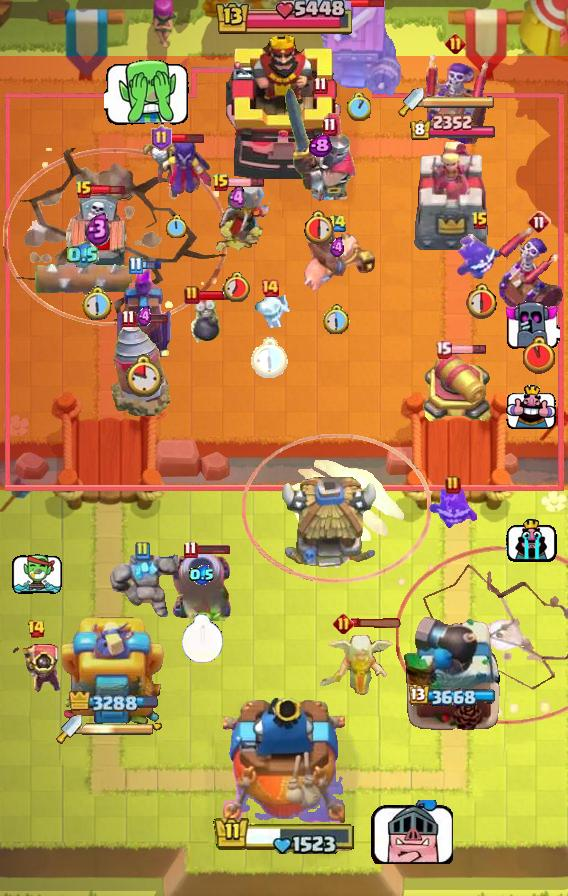axe: (141, 135, 211, 197)
bar: (62, 611, 166, 731), (412, 140, 494, 256)
bat: (247, 286, 293, 330)
bomber-evolution: (8, 639, 64, 695)
clock: (213, 814, 355, 855), (213, 0, 355, 38)
electro-spirit: (67, 241, 99, 269), (85, 212, 111, 246), (308, 134, 332, 158), (189, 565, 215, 585), (228, 184, 246, 211), (330, 238, 345, 259), (137, 306, 151, 327)
elixir: (181, 614, 224, 664), (250, 337, 289, 379), (125, 355, 162, 398), (463, 281, 497, 318), (523, 336, 555, 374), (303, 209, 336, 245), (82, 287, 114, 322), (222, 270, 252, 301), (323, 305, 351, 336), (346, 93, 371, 121), (165, 215, 187, 240)
elixir-golem-mid: (63, 194, 133, 280)
emote: (351, 619, 403, 630), (91, 184, 126, 197), (228, 176, 265, 188), (450, 344, 487, 356), (170, 132, 206, 144), (133, 312, 169, 324), (195, 543, 231, 555), (199, 289, 234, 301), (350, 0, 385, 8), (140, 260, 162, 272)
freeze: (298, 228, 376, 294)
goblin-cage: (170, 551, 234, 621)
guard: (3, 148, 227, 328), (396, 546, 568, 725)
ice-golem: (188, 291, 222, 347)
ice-spirit-evolution-symbol: (114, 267, 174, 359)
ice-wizard: (241, 433, 430, 582)
king-tower: (226, 33, 342, 181), (223, 698, 345, 826)
king-tower-bar: (424, 95, 496, 109), (82, 722, 154, 736)
magic-archer: (108, 322, 174, 420)
minion: (32, 263, 134, 299)
poison: (316, 624, 404, 704), (196, 180, 278, 254)
prince: (279, 477, 381, 573)
royal-recruit: (420, 352, 492, 426)
selected: (409, 114, 497, 142), (69, 691, 159, 715), (410, 685, 499, 708)
skeleton: (104, 58, 190, 127), (369, 800, 453, 864), (504, 298, 561, 350), (507, 517, 558, 564), (506, 385, 556, 430), (10, 553, 61, 595)
skeleton-king-bar: (498, 224, 568, 324), (422, 50, 488, 144)
sparky: (315, 0, 401, 98)
spear-goblin: (456, 232, 504, 280), (427, 485, 479, 529)
text: (527, 210, 551, 234), (151, 125, 172, 151), (446, 33, 467, 55), (334, 614, 355, 635), (260, 278, 280, 298), (26, 619, 45, 639), (212, 173, 230, 193), (75, 180, 93, 200), (471, 211, 489, 231), (328, 215, 347, 233), (435, 341, 453, 359), (184, 285, 200, 305), (445, 475, 461, 495), (134, 541, 150, 561), (312, 77, 327, 95), (129, 257, 144, 275), (121, 309, 135, 328), (183, 540, 197, 559)
tower-bar: (402, 615, 504, 731)
valkyrie-evolution: (106, 553, 178, 623)
wall-breaker-evolution: (283, 87, 357, 207)
